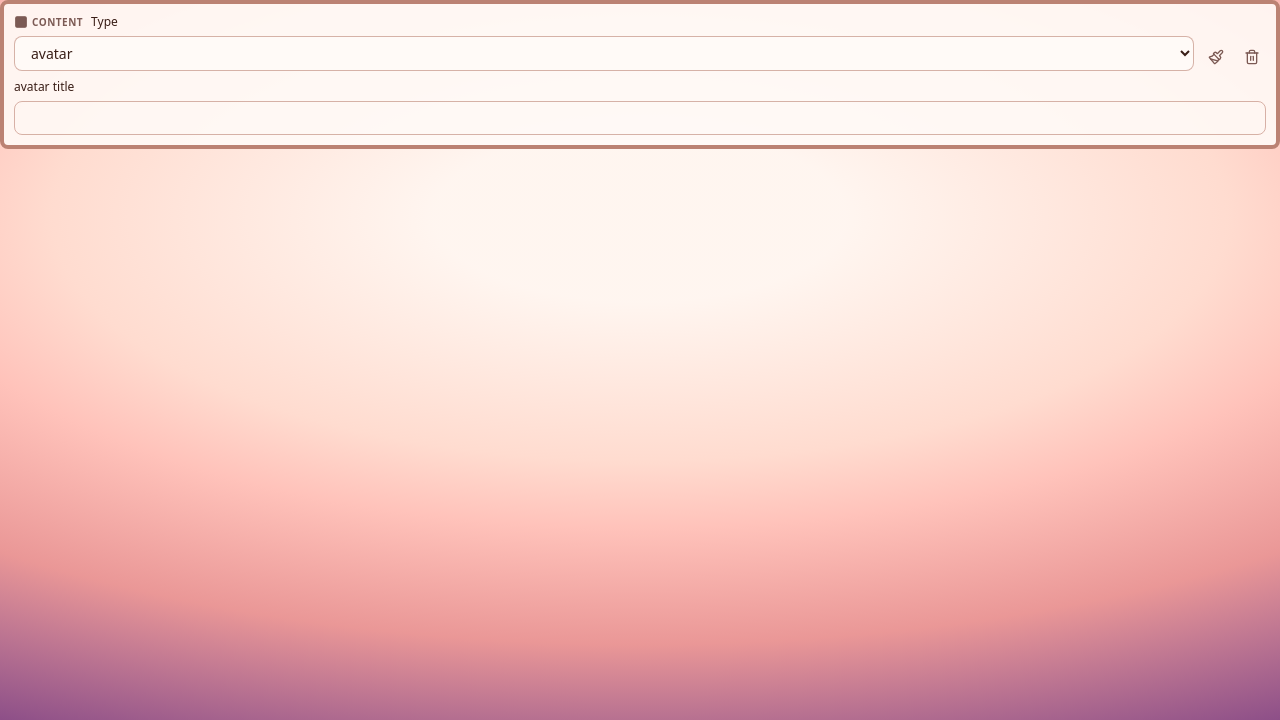
Test: LeafEditor › its own style popup › offers 'pictures' for a avatar leaf
Click the button named "Section style" at (1216, 57), box 1202,43 -> 1230,71
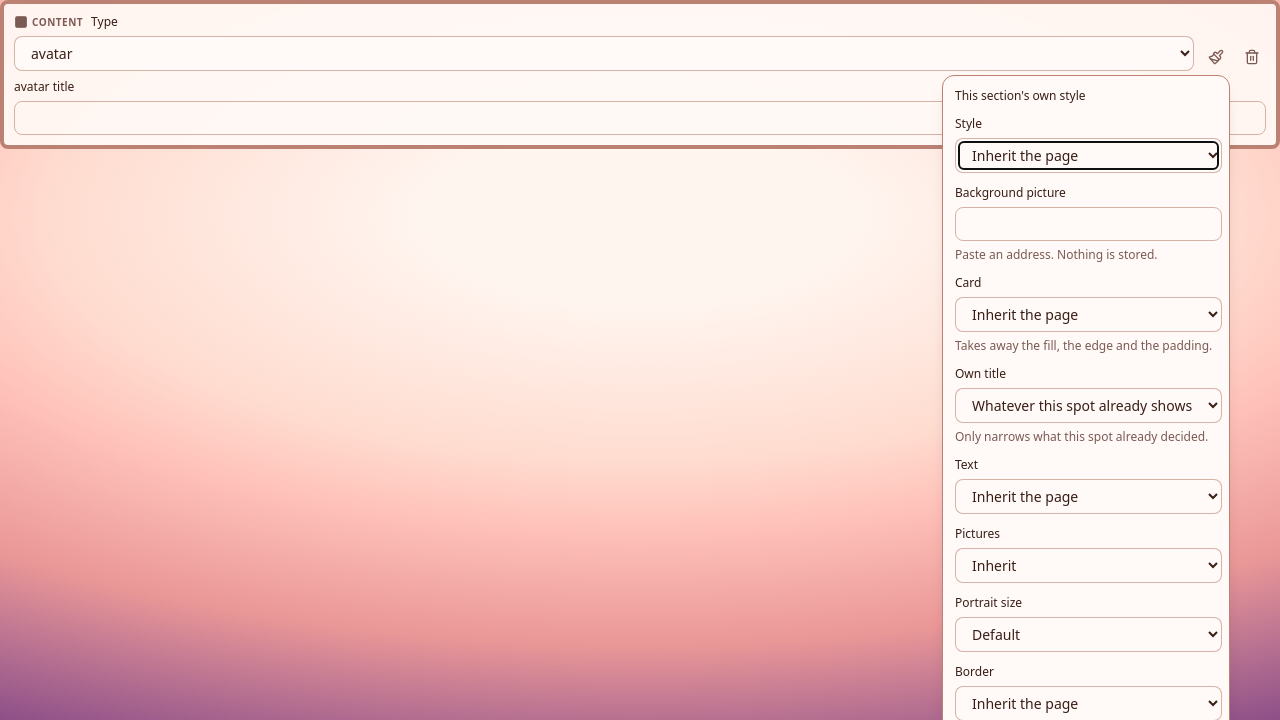
expect the dropdown labelled "Pictures" is shown: met, box 955,548 -> 1222,583
